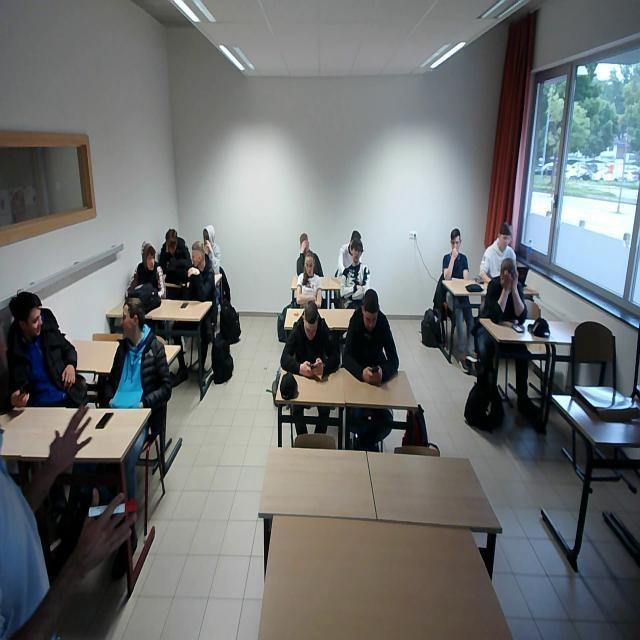phone_use: (280, 300, 338, 378), (341, 308, 397, 380)
